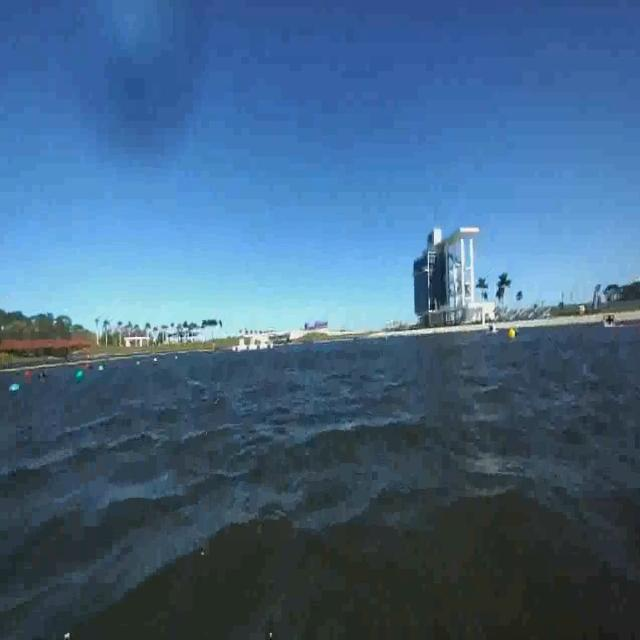green-buoy: (75, 368, 85, 382), (10, 384, 20, 394)
yellow-buoy: (509, 325, 518, 339)
